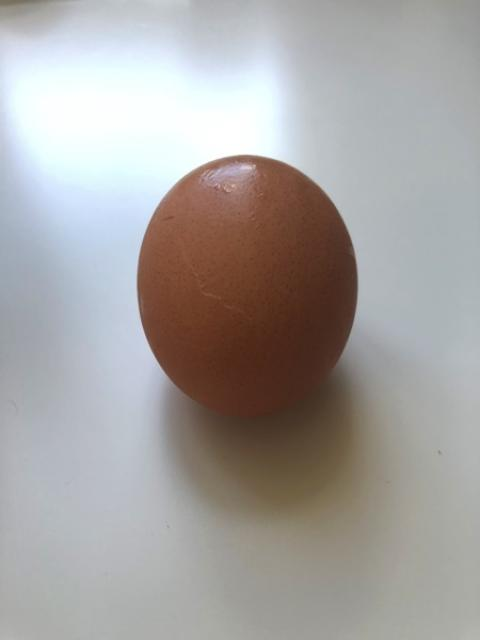Roto: (135, 153, 358, 417)
